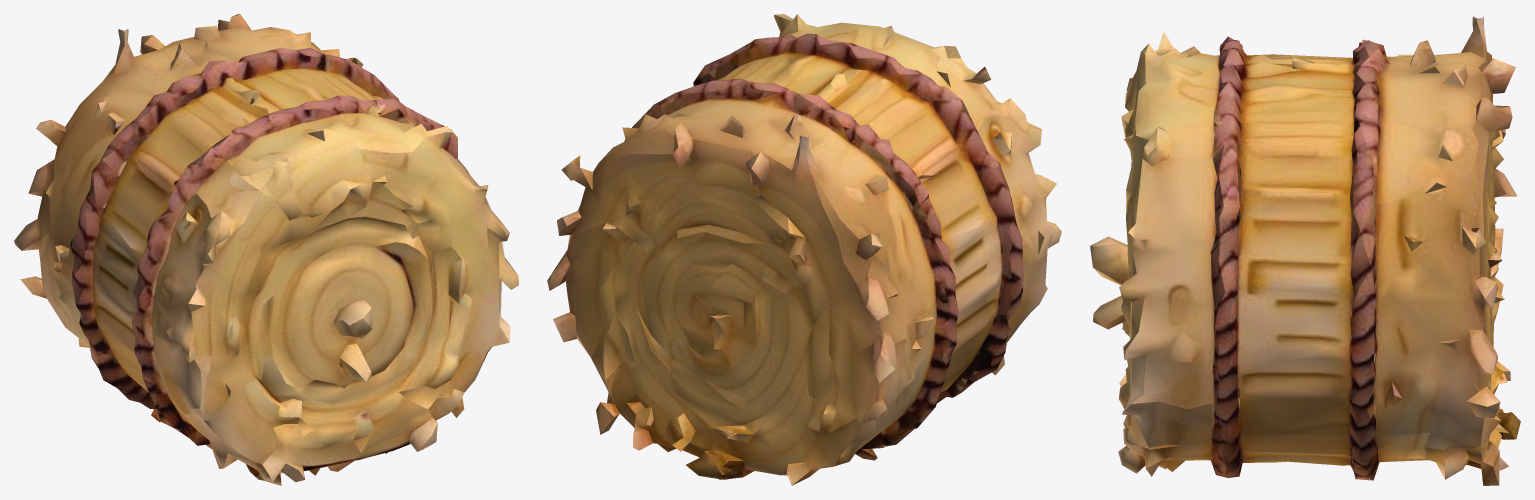
Rendered from haybale.glb.
3 views of the same model, side by side, from view 1: azimuth 30°, elevation 25°; view 2: azimuth 150°, elevation 25°; view 3: azimuth 270°, elevation 25° (orthographic). The views are drawn at different scales.
Visible parts, largest first — view 1: haybale_s21; view 2: haybale_s21; view 3: haybale_s21.
Boxes of the visible parts, box(x1,y1,x2,y2) form: haybale_s21: box(14, 14, 518, 485); haybale_s21: box(547, 14, 1061, 485); haybale_s21: box(1090, 16, 1520, 485).
Bounding box in the file's own units: 1 × 0.9808 × 0.9632.
Materials: 1 (1 with a texture image).
